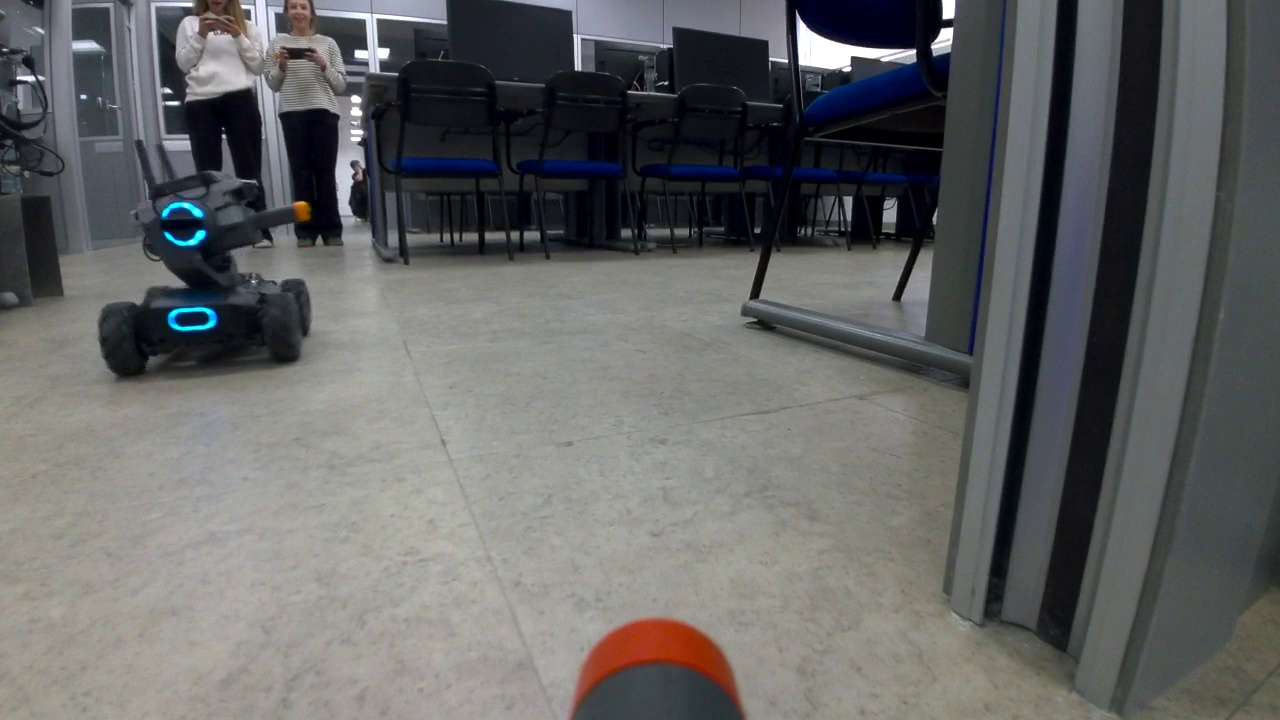robot: (93, 166, 322, 390)
